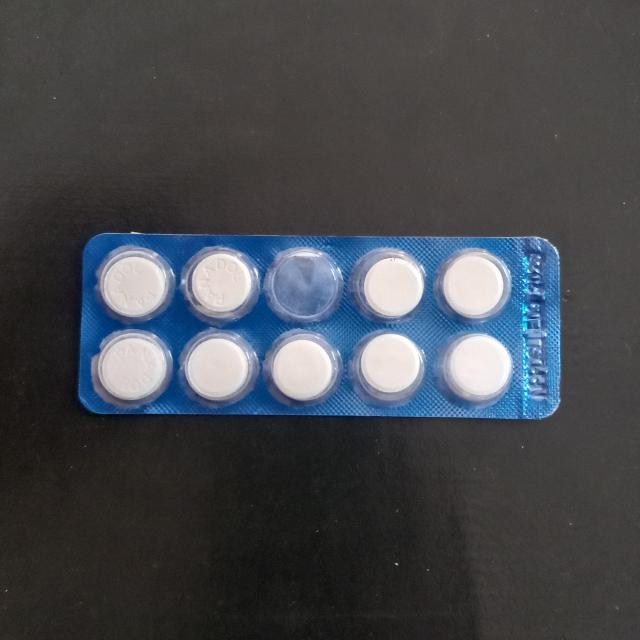defect: (264, 245, 345, 328)
